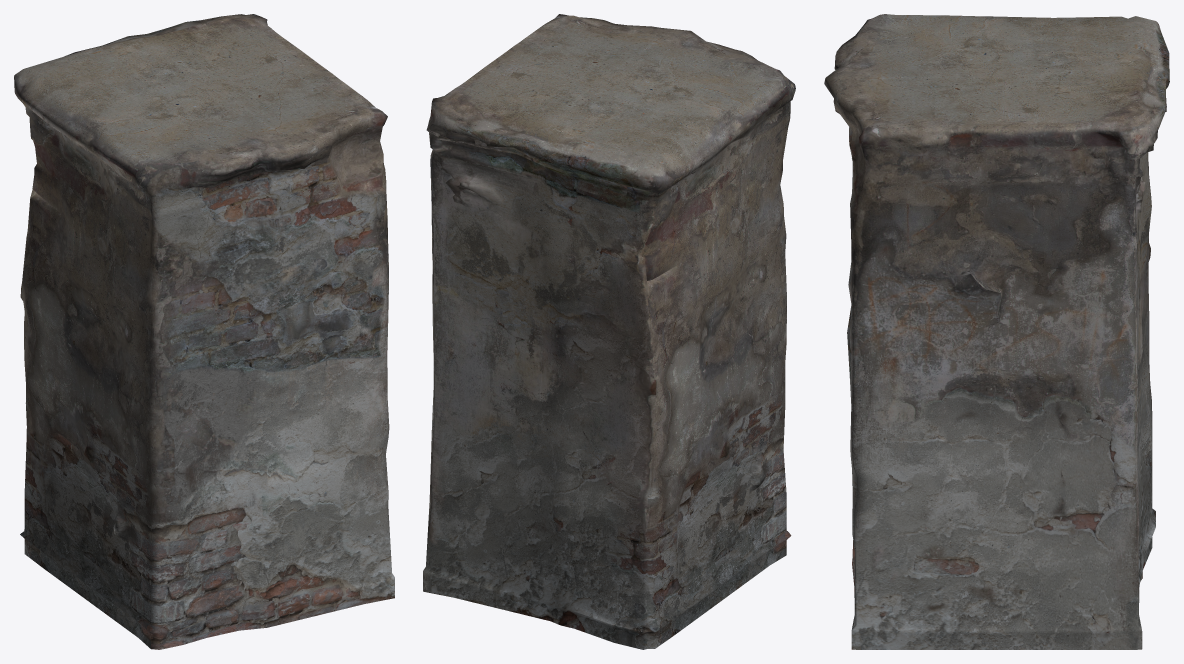
Rendered from sm_CryptColumn_02_01.fbx.
The picture shows the model from 3 angles, left to right: view 1: azimuth 30°, elevation 25°; view 2: azimuth 150°, elevation 25°; view 3: azimuth 270°, elevation 25°; orthographic projection. The views are drawn at different scales.
Parts seen in each view (by area): view 1: sm_CryptColumn_02_01_LOD0; view 2: sm_CryptColumn_02_01_LOD0; view 3: sm_CryptColumn_02_01_LOD0.
Part boxes in pixels (left/top/right/bottom): sm_CryptColumn_02_01_LOD0: left=14, top=14, right=394, bottom=649; sm_CryptColumn_02_01_LOD0: left=423, top=14, right=795, bottom=649; sm_CryptColumn_02_01_LOD0: left=824, top=14, right=1169, bottom=649.
Size of the model in its own units: 80.66 by 89.7 by 149.
